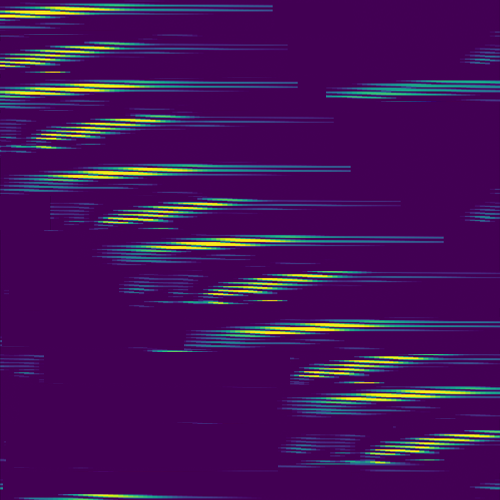semblance: (186, 266, 371, 307), (29, 112, 199, 151), (1, 38, 143, 76), (360, 430, 500, 466), (295, 353, 435, 385), (94, 197, 245, 226), (43, 161, 205, 182), (1, 2, 148, 25), (222, 319, 386, 339), (1, 79, 148, 101), (141, 234, 292, 254), (328, 385, 479, 404)
